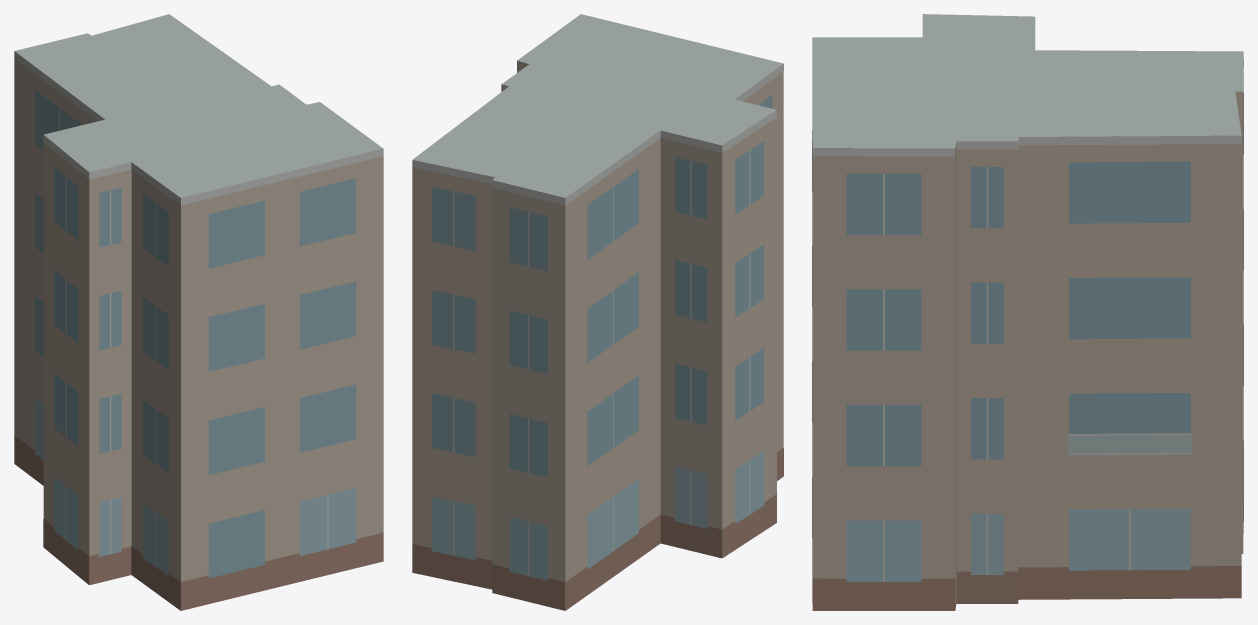
File: survey-upis-32474446.glb
3 views of the same model, side by side, from view 1: azimuth 30°, elevation 25°; view 2: azimuth 150°, elevation 25°; view 3: azimuth 270°, elevation 25° (orthographic). The views are drawn at different scales.
Parts seen in each view (by area): view 1: survey-upis-32474446.tmp; view 2: survey-upis-32474446.tmp; view 3: survey-upis-32474446.tmp.
Part boxes in pixels (bbox=[...]): survey-upis-32474446.tmp: bbox=[14, 14, 383, 610]; survey-upis-32474446.tmp: bbox=[412, 14, 783, 610]; survey-upis-32474446.tmp: bbox=[812, 14, 1243, 610].
Bounding box in the file's own units: 8.41 × 13.5 × 11.42.
